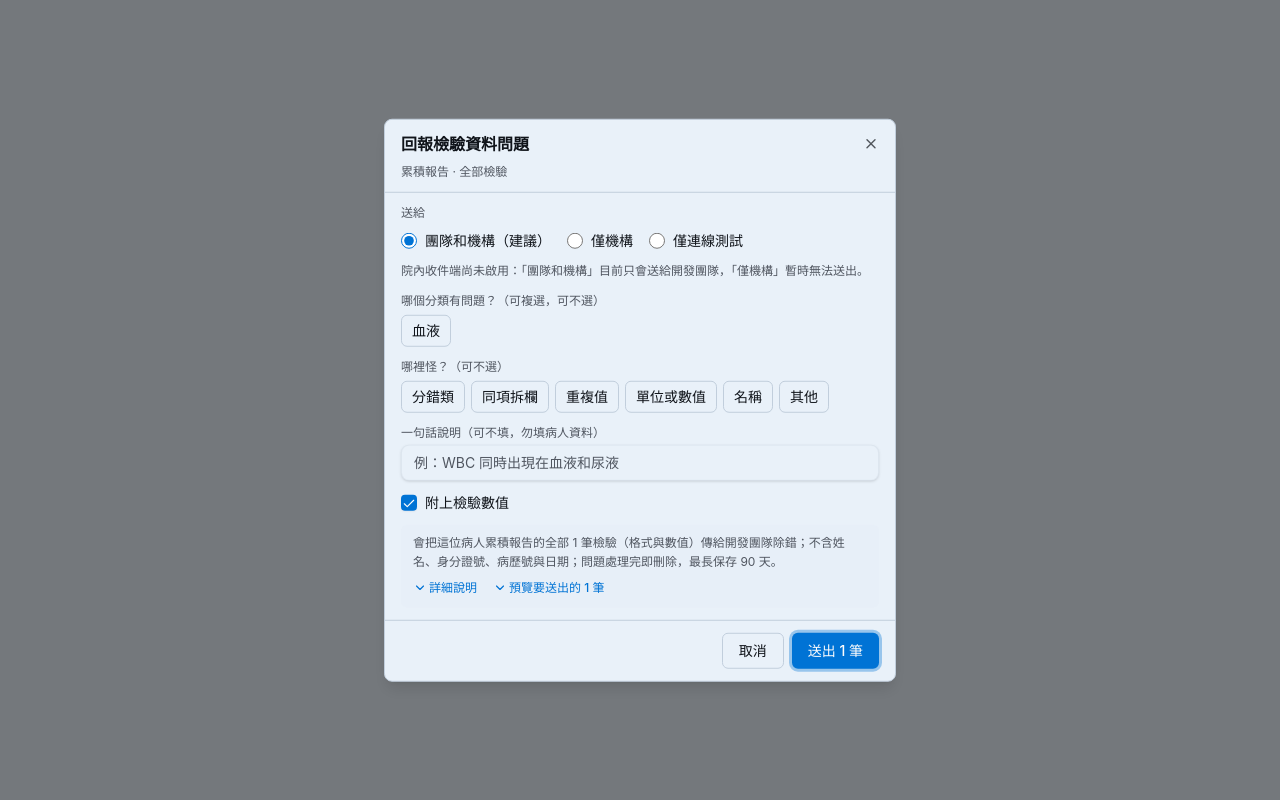
Test: LabDataReportDialog — 送給 on ?site=vghtpe › before the hospital Gateway is set up › discloses the team alone while 團隊和機構 goes to the team alone
Click the button "詳細說明".
click(445, 587)  # box [413, 575, 477, 599]
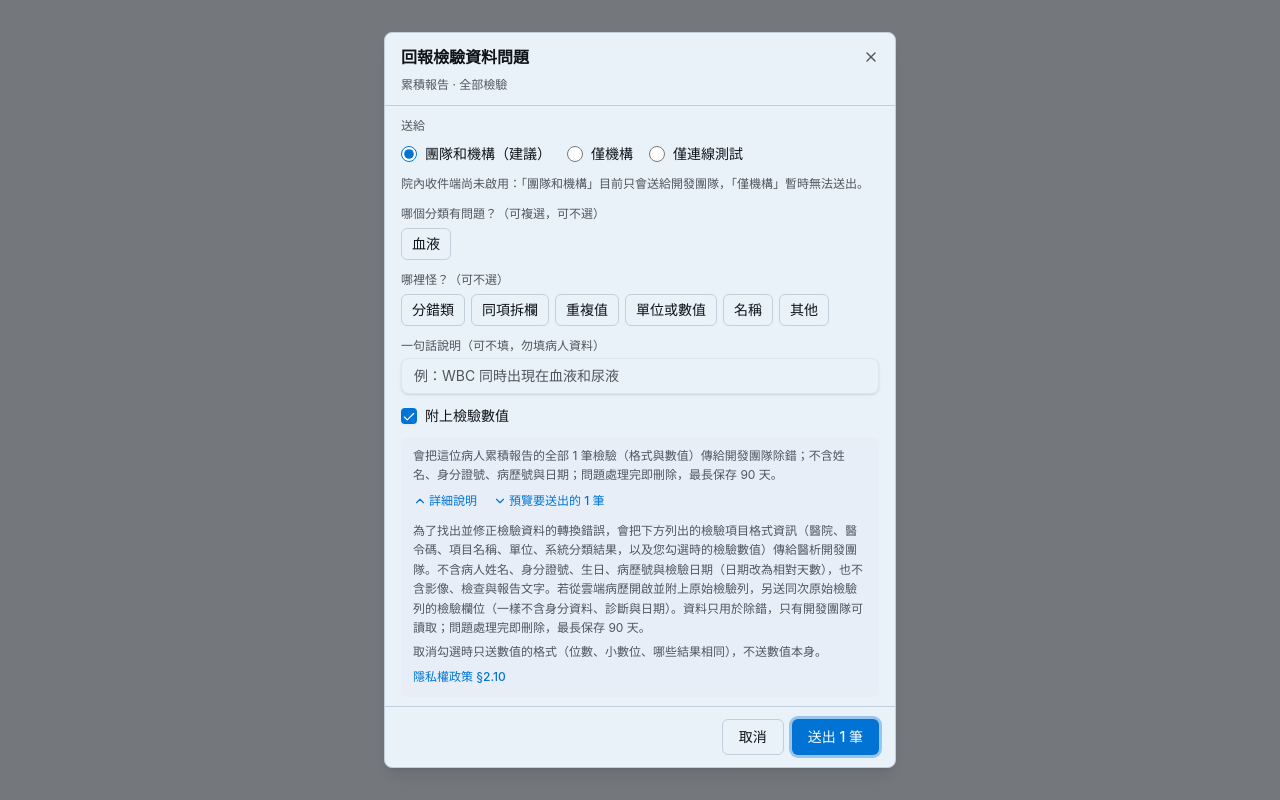
Expected: the text "傳給醫析開發團隊。" is shown, [413, 522, 863, 635]
